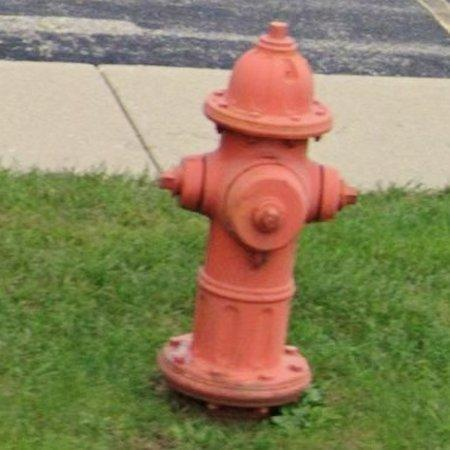a fire hydrant: (159, 21, 358, 411)
